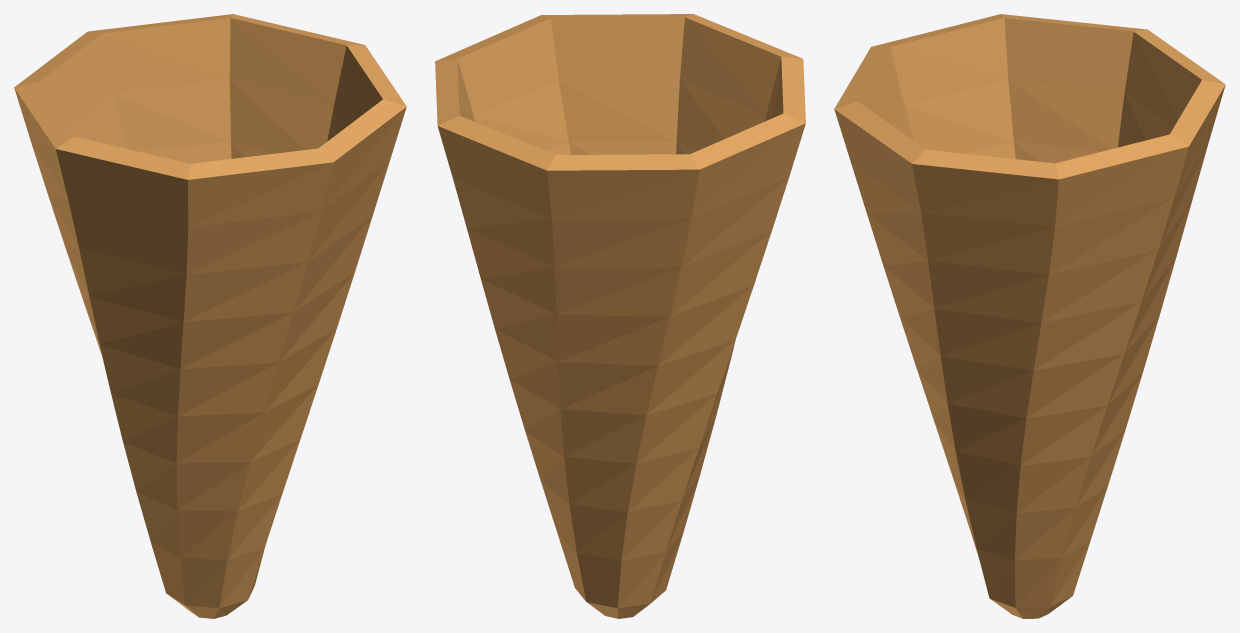
File: IceCream_Cone.obj
The picture shows the model from 3 angles, left to right: view 1: azimuth 30°, elevation 25°; view 2: azimuth 150°, elevation 25°; view 3: azimuth 270°, elevation 25°; orthographic projection.
Visible parts, largest first — view 1: IceCream_Cone; view 2: IceCream_Cone; view 3: IceCream_Cone.
Part boxes in pixels (x1,y1,x2,y2): IceCream_Cone: (14,14,406,618); IceCream_Cone: (435,14,805,618); IceCream_Cone: (834,14,1225,618).
Size of the model in its own units: 0.5524 by 0.8104 by 0.5524.
